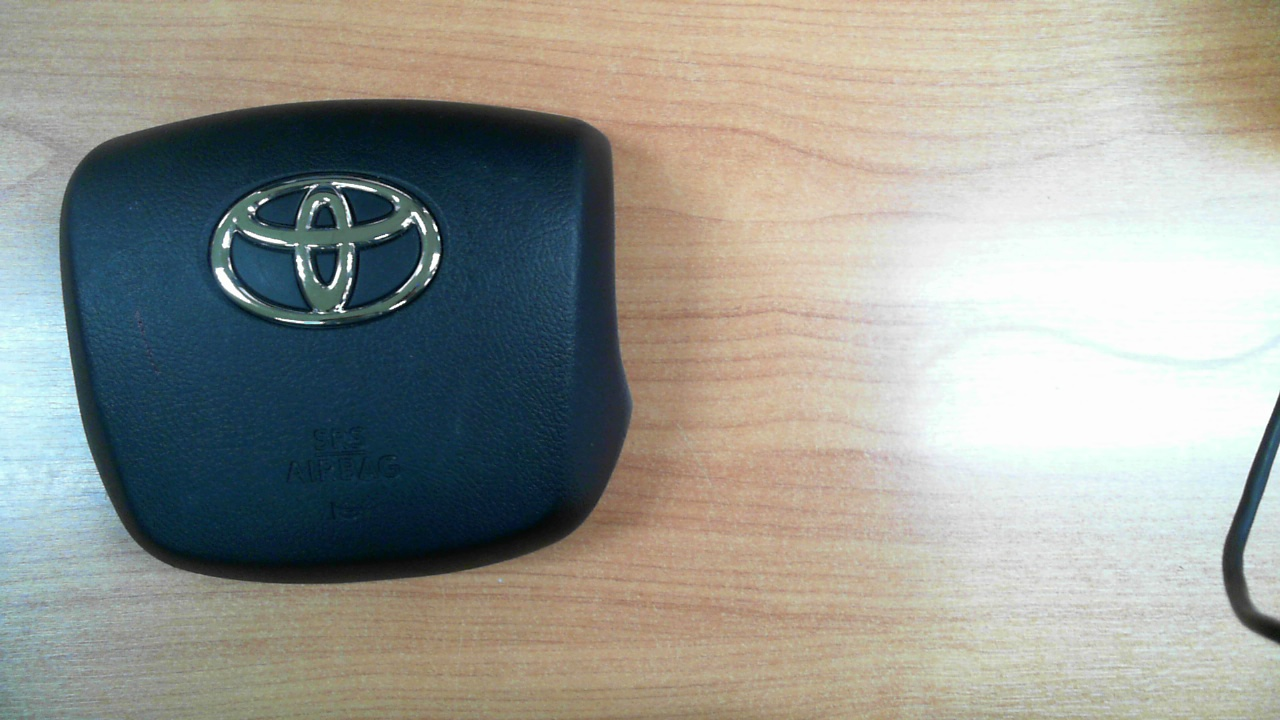Airbag: (60, 99, 630, 575)
Toyota: (210, 174, 442, 326)
